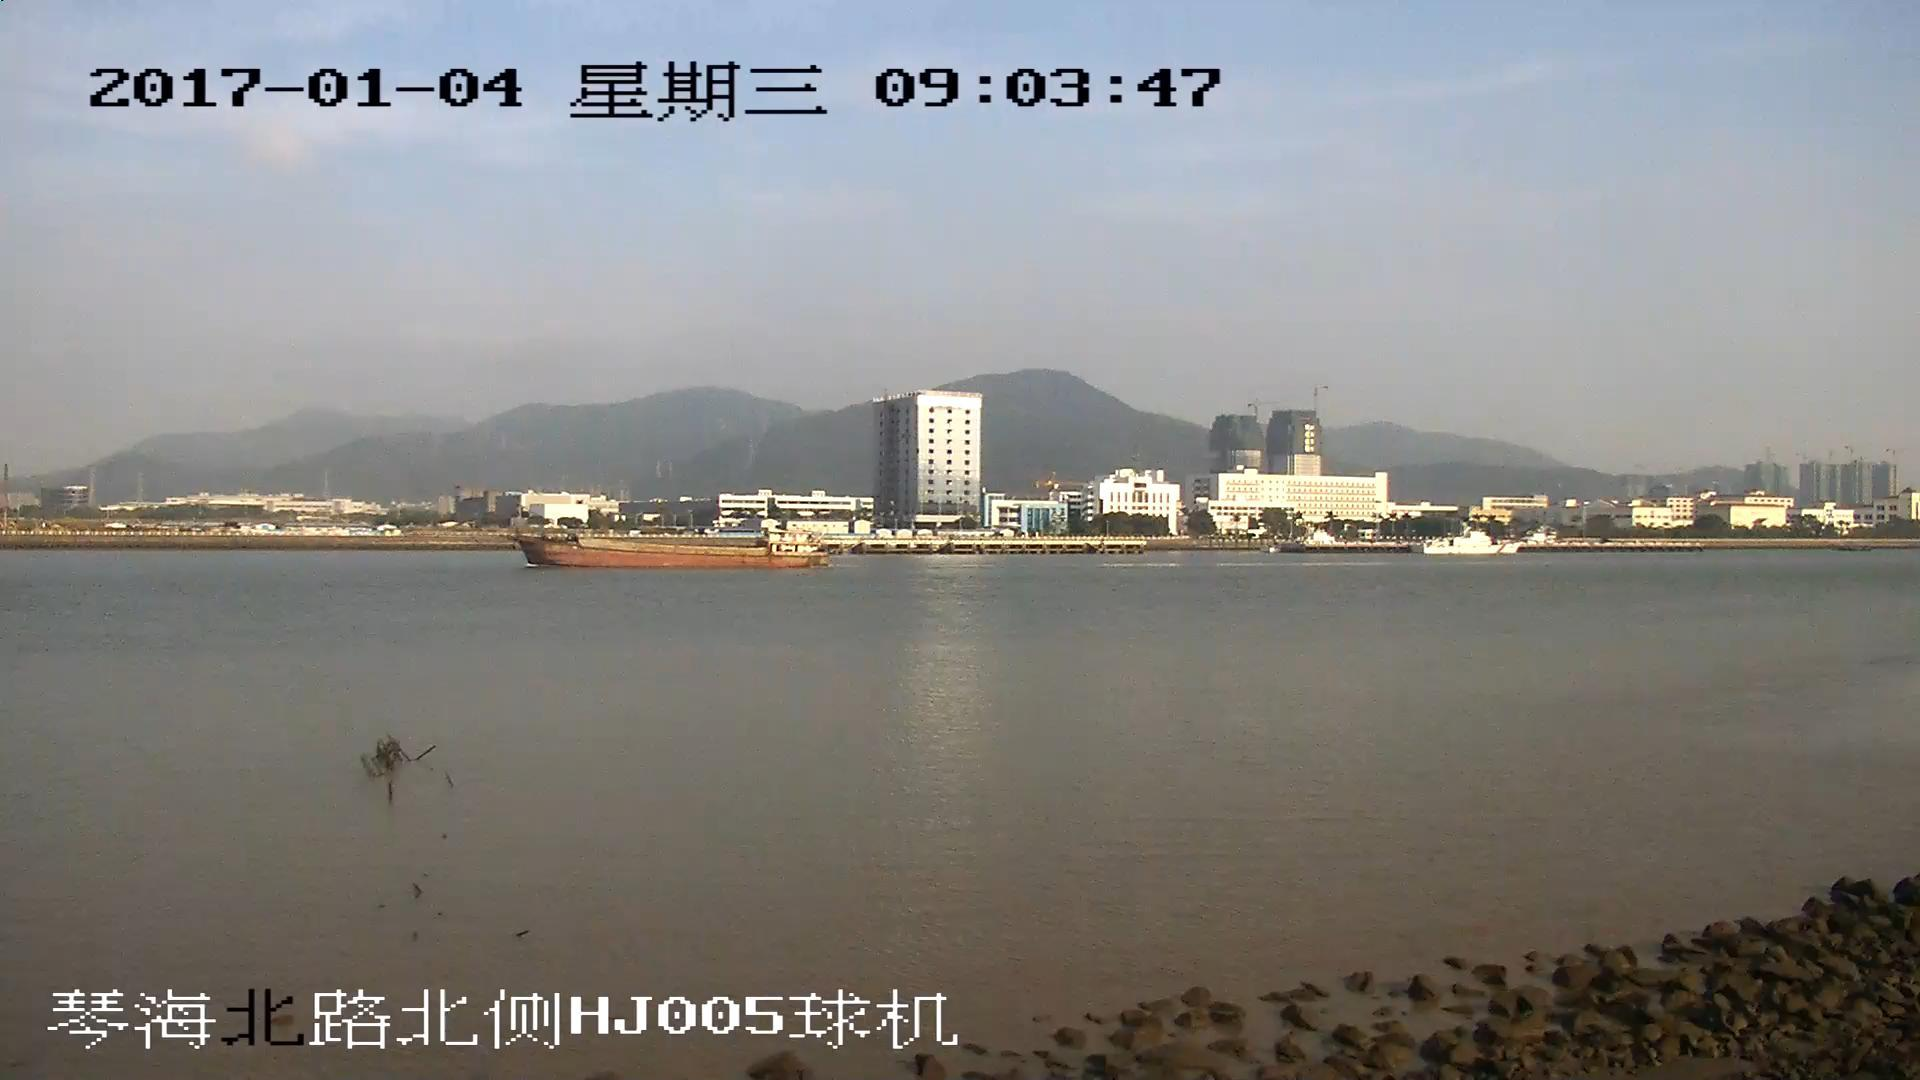Ship: (520, 520, 823, 568)
